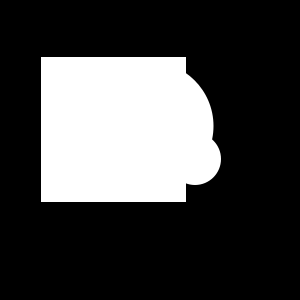circle: (41, 57, 186, 202)
rectangle: (84, 61, 214, 190), (169, 133, 221, 185)
